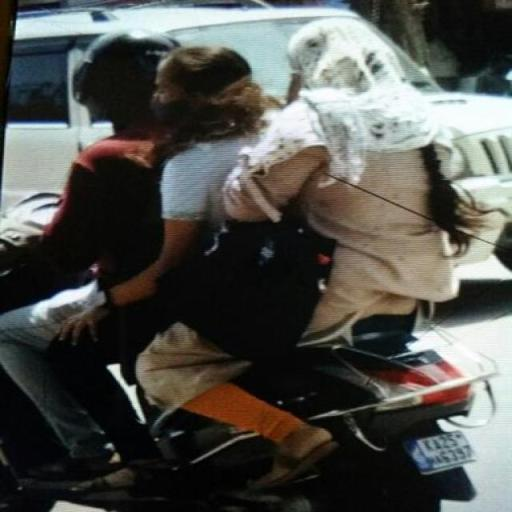tripple riding: (26, 16, 480, 315)
